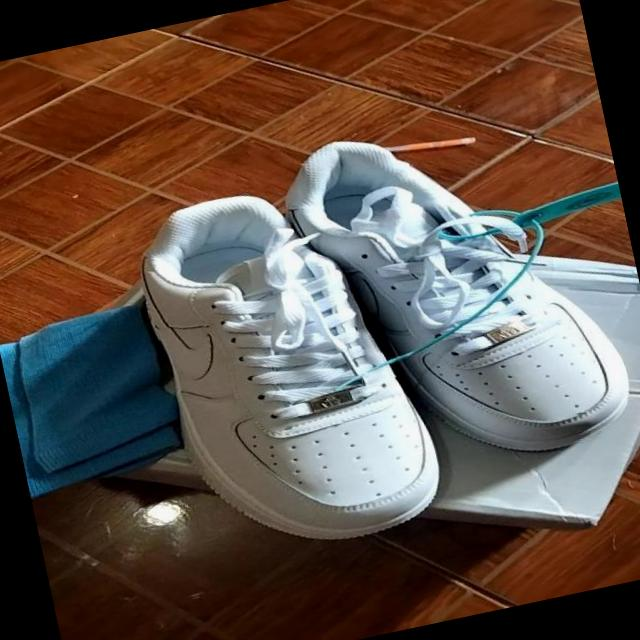nike_fake_airforce: (88, 163, 452, 577), (275, 88, 640, 493)
